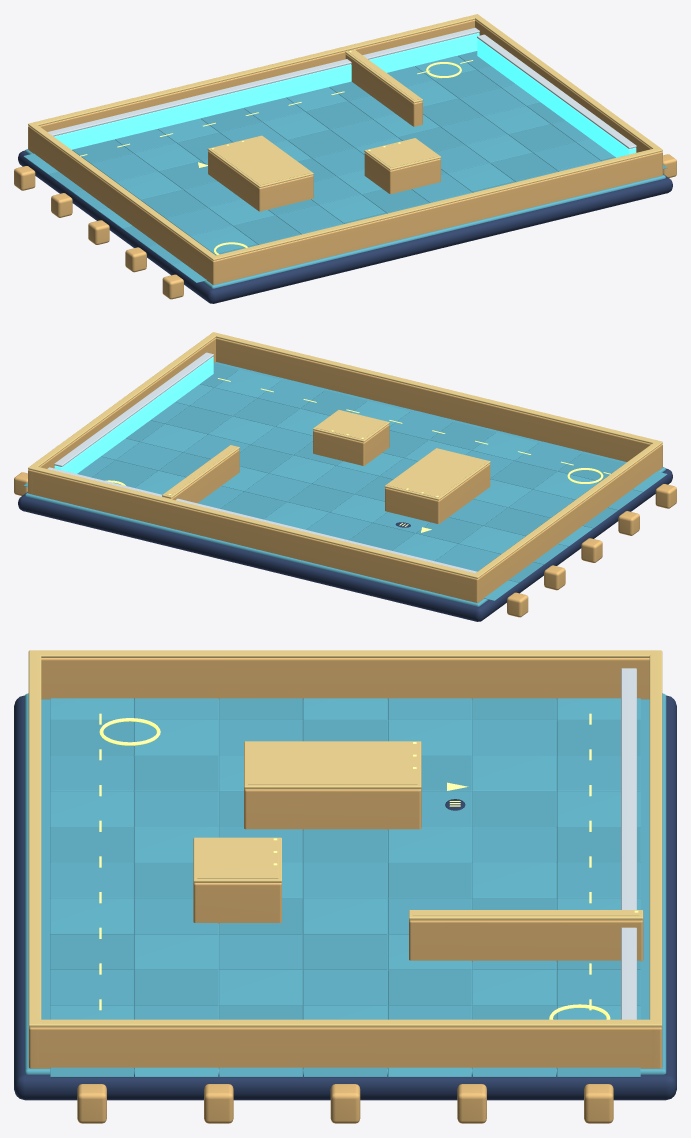
Rendered from dock.glb.
3 renders of one model, top to bottom at view 1: azimuth 30°, elevation 25°; view 2: azimuth 150°, elevation 25°; view 3: azimuth 270°, elevation 25°, orthographic. The views are drawn at different scales.
Visible parts, largest first — view 1: SOLID 1 border, Floating island, SOLID 7 reflector, SOLID 2 border, SOLID 0 border, SOLID 8 reflector, SOLID crown 7 reflector, SOLID 4 cover, Roof trim, SOLID crown 1 border, SOLID crown 0 border, Ground (+61 smaller); view 2: SOLID 0 border, SOLID 1 border, Floating island, SOLID 2 border, Ground, SOLID 8 reflector, SOLID 4 cover, Roof trim, SOLID crown 0 border, SOLID crown 1 border, SOLID 5 cover, SOLID 3 border (+63 smaller); view 3: SOLID 3 border, SOLID 2 border, Floating island, Ground, SOLID 6 cover, SOLID 4 cover, Roof trim, SOLID crown 3 border, SOLID crown 7 reflector, SOLID crown 1 border, SOLID crown 0 border, SOLID crown 2 border (+85 smaller).
Boxes of the visible parts, left/top/right/bottom form: SOLID 1 border: left=210, top=152, right=662, bottom=284; Floating island: left=18, top=150, right=672, bottom=303; SOLID 7 reflector: left=53, top=32, right=479, bottom=149; SOLID 2 border: left=28, top=126, right=218, bottom=284; SOLID 0 border: left=39, top=19, right=474, bottom=131; SOLID 8 reflector: left=477, top=38, right=636, bottom=157; SOLID crown 7 reflector: left=47, top=27, right=479, bottom=136; SOLID 4 cover: left=208, top=151, right=313, bottom=211; Roof trim: left=211, top=136, right=310, bottom=185; SOLID crown 1 border: left=210, top=147, right=662, bottom=260; SOLID crown 0 border: left=28, top=14, right=479, bottom=125; Ground: left=25, top=59, right=665, bottom=288; SOLID 0 border: left=29, top=470, right=480, bottom=602; SOLID 1 border: left=216, top=337, right=662, bottom=466; Floating island: left=18, top=468, right=672, bottom=621; SOLID 2 border: left=472, top=444, right=662, bottom=602; Ground: left=25, top=362, right=665, bottom=606; SOLID 8 reflector: left=54, top=356, right=213, bottom=473; SOLID 4 cover: left=385, top=463, right=490, bottom=523; Roof trim: left=387, top=449, right=487, bottom=497; SOLID crown 0 border: left=28, top=465, right=480, bottom=578; SOLID crown 1 border: left=210, top=332, right=662, bottom=443; SOLID 5 cover: left=313, top=424, right=389, bottom=465; SOLID 3 border: left=28, top=338, right=215, bottom=494; SOLID 3 border: left=28, top=1027, right=662, bottom=1068; SOLID 2 border: left=41, top=658, right=649, bottom=699; Floating island: left=14, top=695, right=676, bottom=1100; Ground: left=24, top=693, right=666, bottom=1074; SOLID 6 cover: left=409, top=919, right=643, bottom=961; SOLID 4 cover: left=244, top=788, right=421, bottom=830; Roof trim: left=248, top=742, right=417, bottom=784; SOLID crown 3 border: left=28, top=1019, right=662, bottom=1027; SOLID crown 7 reflector: left=621, top=668, right=636, bottom=1019; SOLID crown 1 border: left=28, top=650, right=41, bottom=1026; SOLID crown 0 border: left=649, top=650, right=662, bottom=1027; SOLID crown 2 border: left=28, top=650, right=662, bottom=657.
Size of the model in its own units: 23.7 by 2.03 by 15.7.
